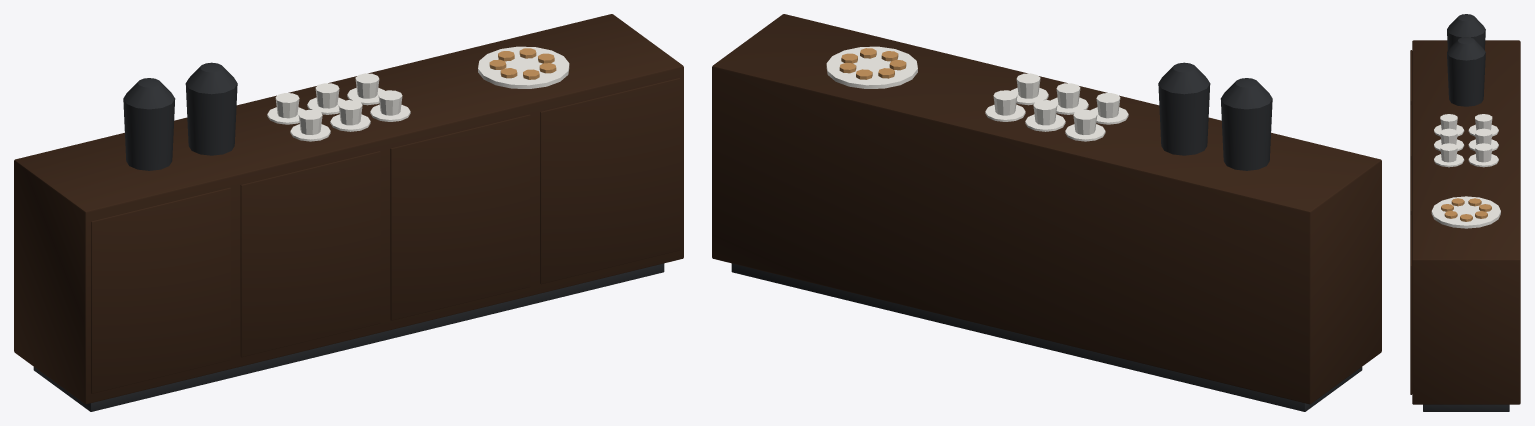
The model's file is vantage_sideboard.glb.
3 renders of one model, left to right at view 1: azimuth 30°, elevation 25°; view 2: azimuth 150°, elevation 25°; view 3: azimuth 270°, elevation 25°, orthographic. The views are drawn at different scales.
Parts seen in each view (by area): view 1: vantage_sideboard; view 2: vantage_sideboard; view 3: vantage_sideboard.
Boxes of the visible parts, left/top/right/bottom form: vantage_sideboard: left=14, top=14, right=683, bottom=411; vantage_sideboard: left=712, top=14, right=1381, bottom=411; vantage_sideboard: left=1410, top=14, right=1520, bottom=411.
Size of the model in its own units: 2.4 by 1.11 by 0.508.
